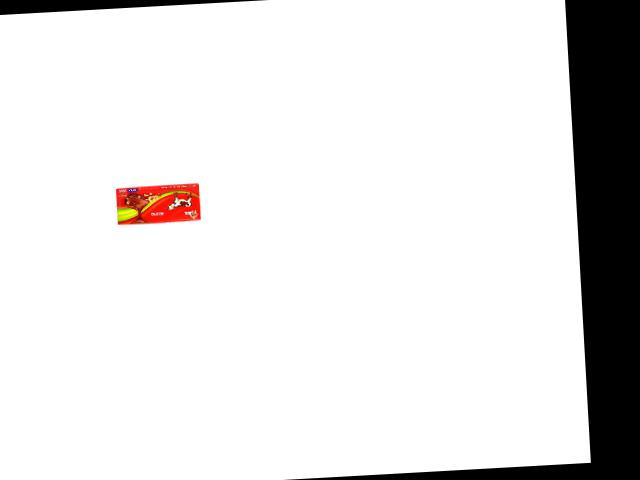chocolate: (113, 175, 206, 228)
